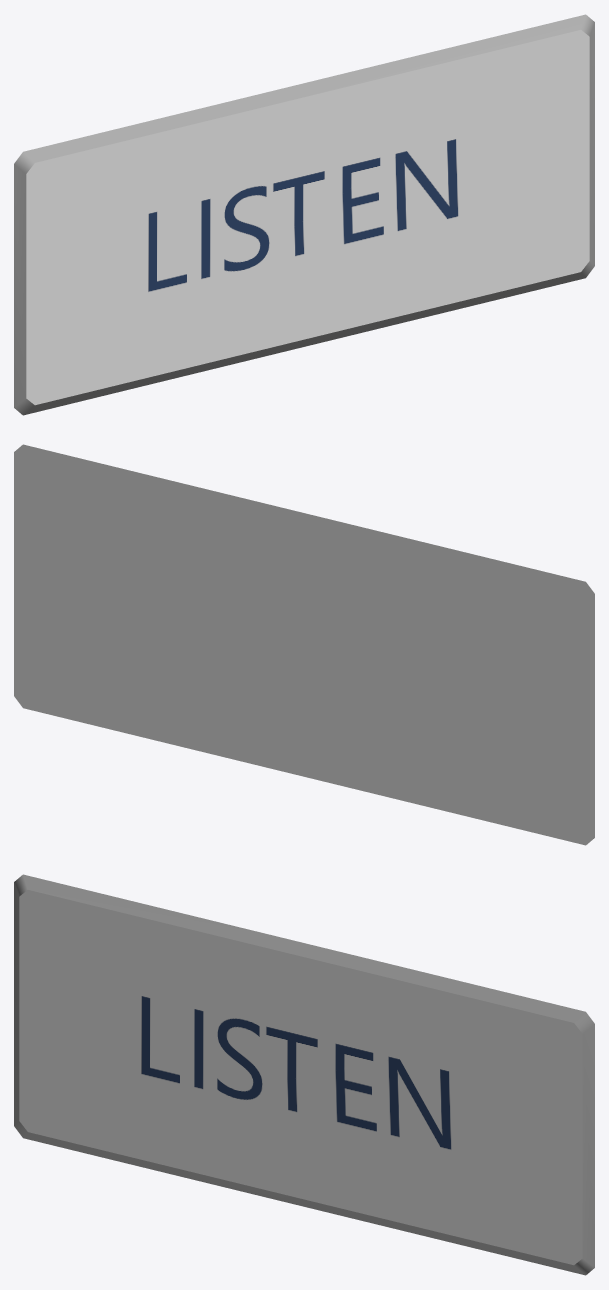
File: Listen.fbx
3 views of the same model, one above another, from view 1: azimuth 30°, elevation 25°; view 2: azimuth 150°, elevation 25°; view 3: azimuth 330°, elevation 25° (orthographic).
Visible parts, largest first — view 1: Listen; view 2: Listen; view 3: Listen.
Boxes of the visible parts, bbox=[...] form: Listen: bbox=[14, 14, 594, 415]; Listen: bbox=[14, 444, 594, 845]; Listen: bbox=[14, 874, 594, 1275].
Size of the model in its own units: 1 by 0.4342 by 0.0104.
Materials: 2 (1 with a texture image).
